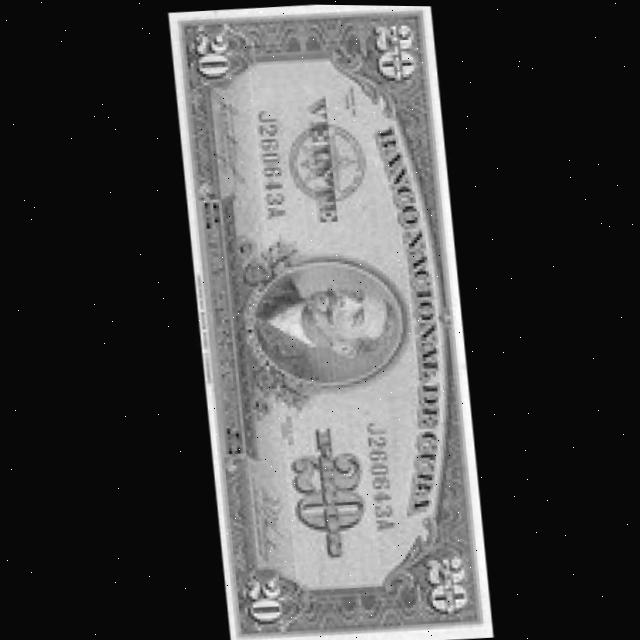banknote: (166, 2, 485, 640)
